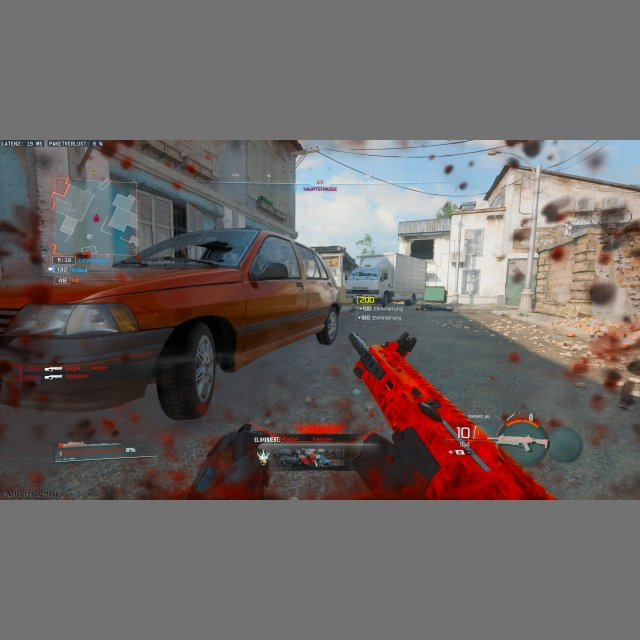player: (382, 287, 394, 310)
